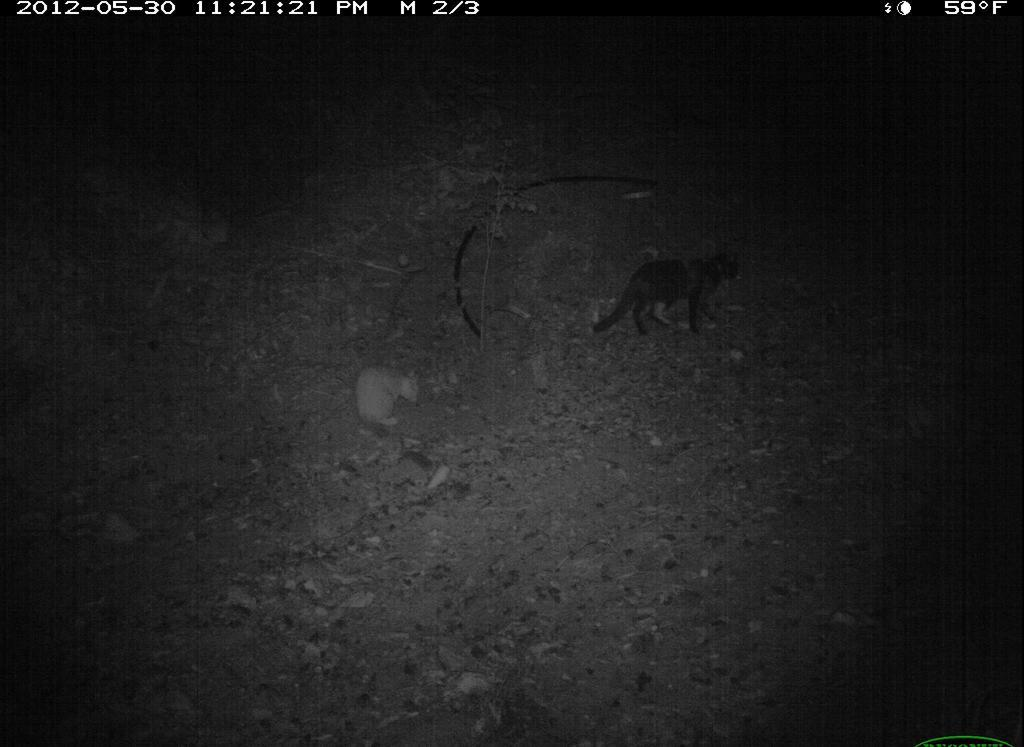cat: (585, 241, 763, 347), (331, 344, 441, 432)
